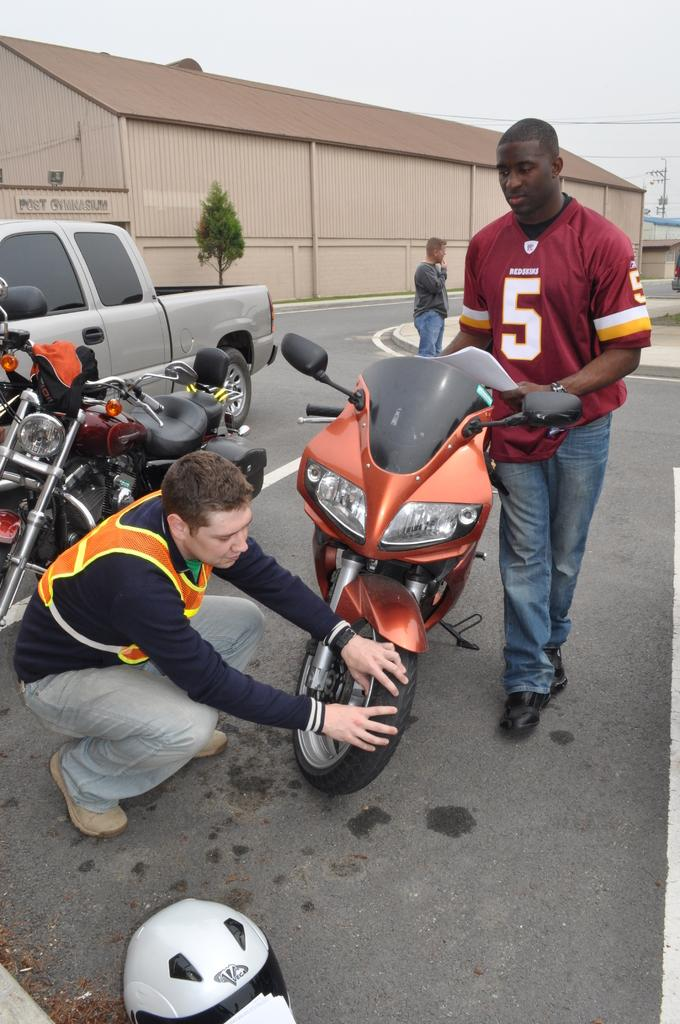helmet: (122, 898, 295, 1024)
nohelmet: (160, 449, 254, 571), (494, 117, 565, 218), (426, 236, 448, 266)
